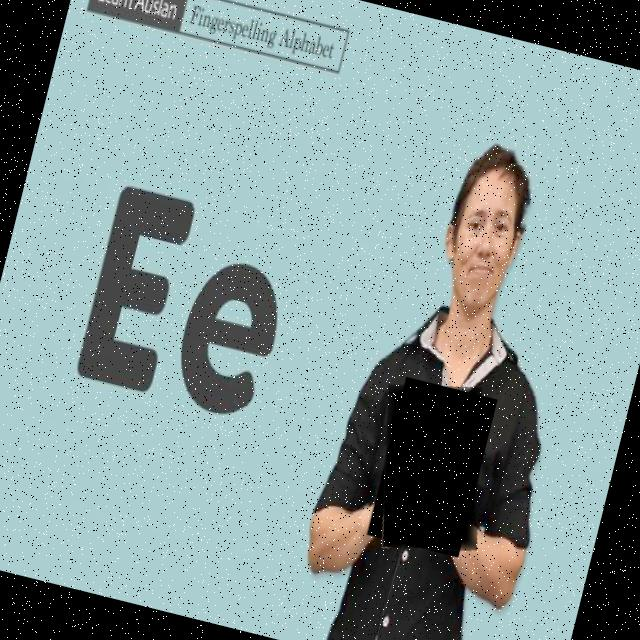E: (358, 372, 507, 566)
